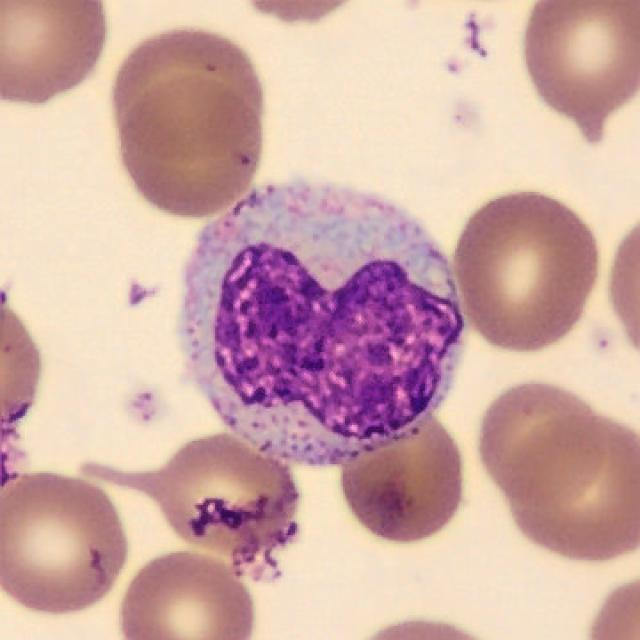Monocito: (181, 181, 466, 466)
